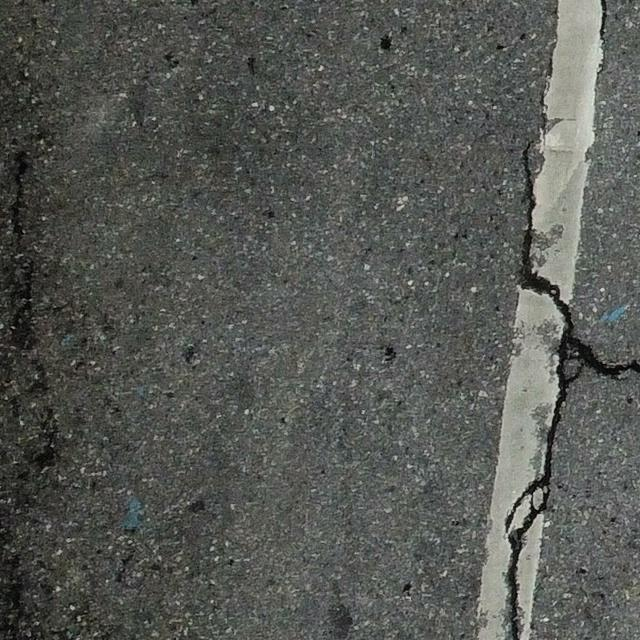LongitudinalCrack: (501, 140, 640, 640)
